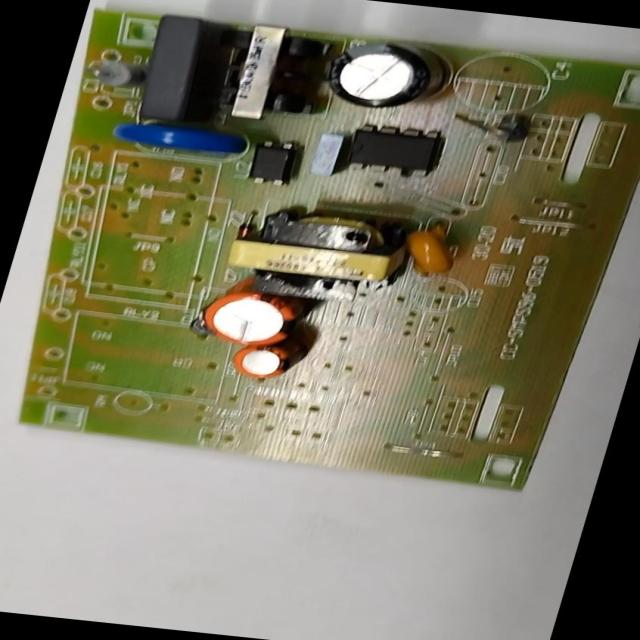Cap1: (202, 291, 303, 348)
Cap2: (229, 344, 294, 381)
Cap3: (320, 42, 446, 110)
MOSFET: (342, 123, 442, 182)
Mov: (110, 120, 246, 158)
Resistor: (85, 58, 146, 91)
Transformer: (220, 208, 408, 297), (208, 22, 331, 124)
